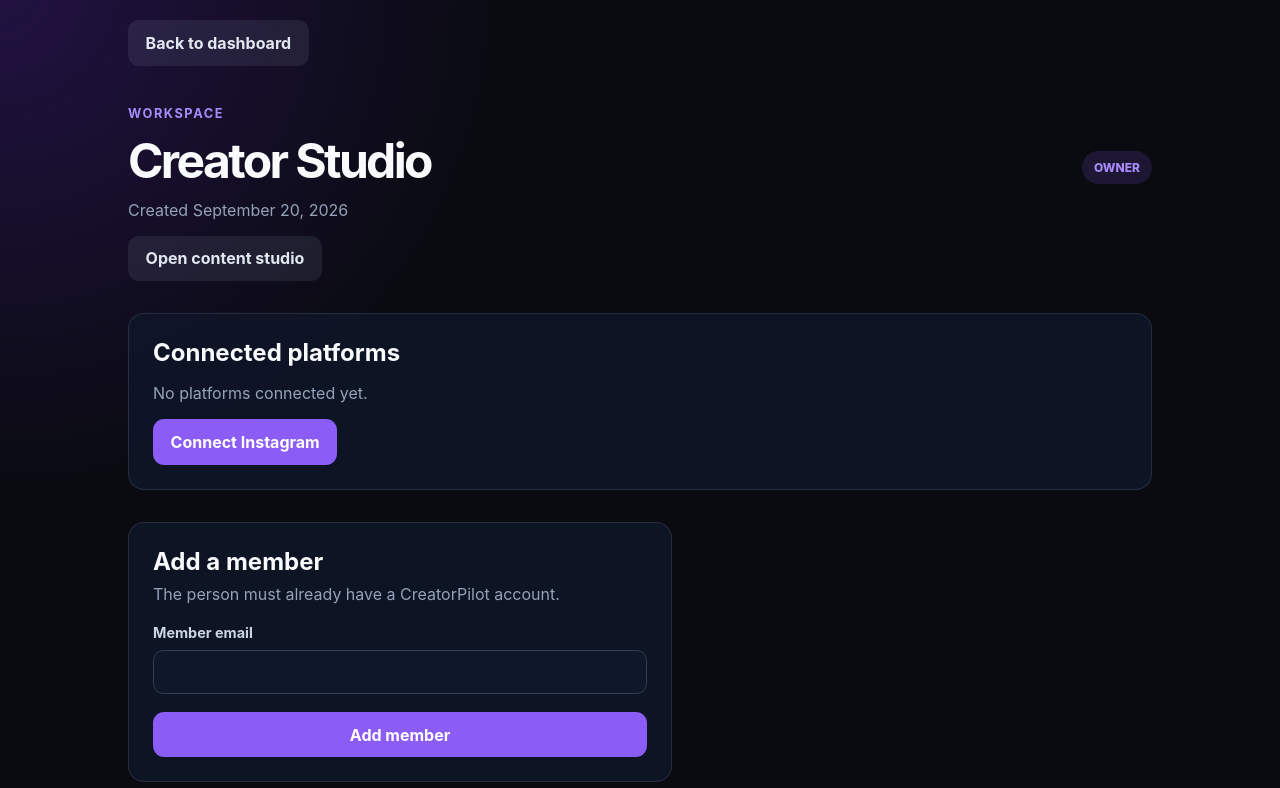
WorkspaceDetails › shows the API message when adding a member fails
Type "member@example.com" into the field labelled "Member email" at (400, 672), box [153,650,647,694]
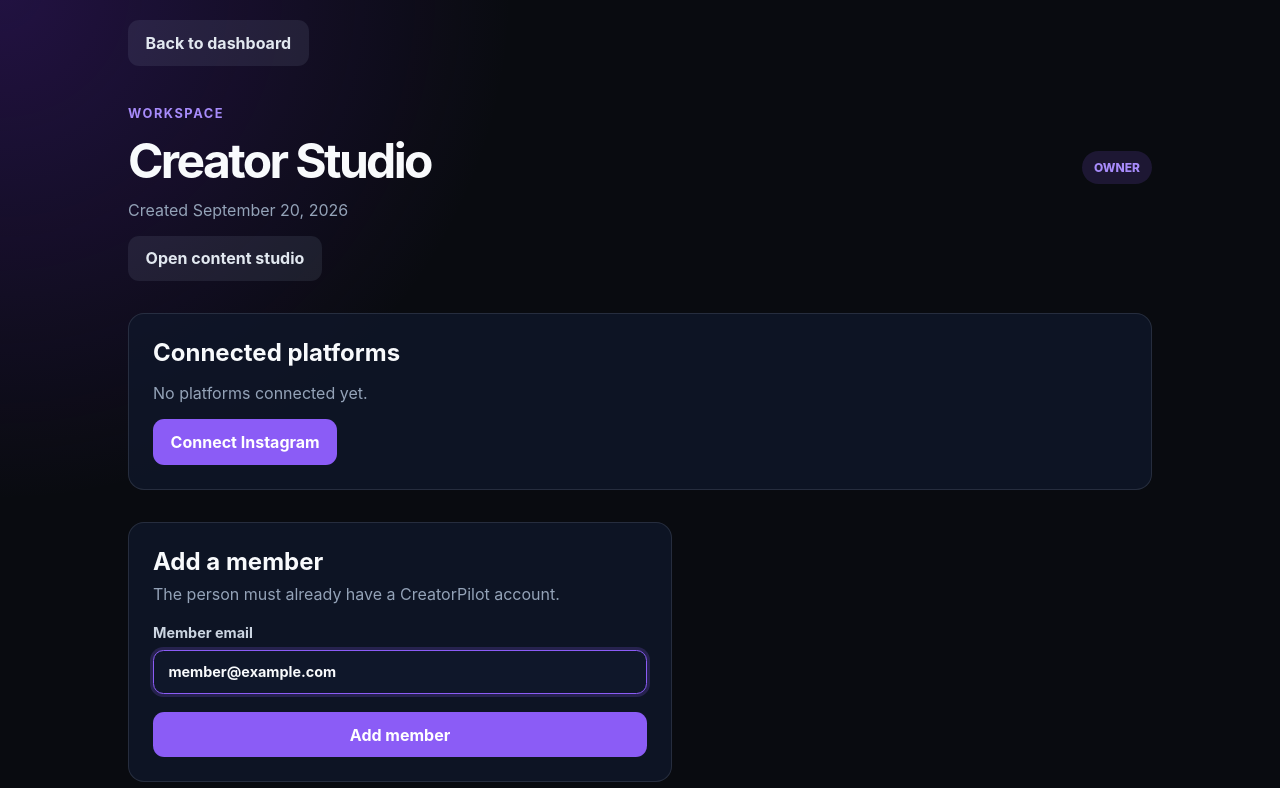
Click the button "Add member" at (400, 735), box [153,712,647,757]
(page scrolled)
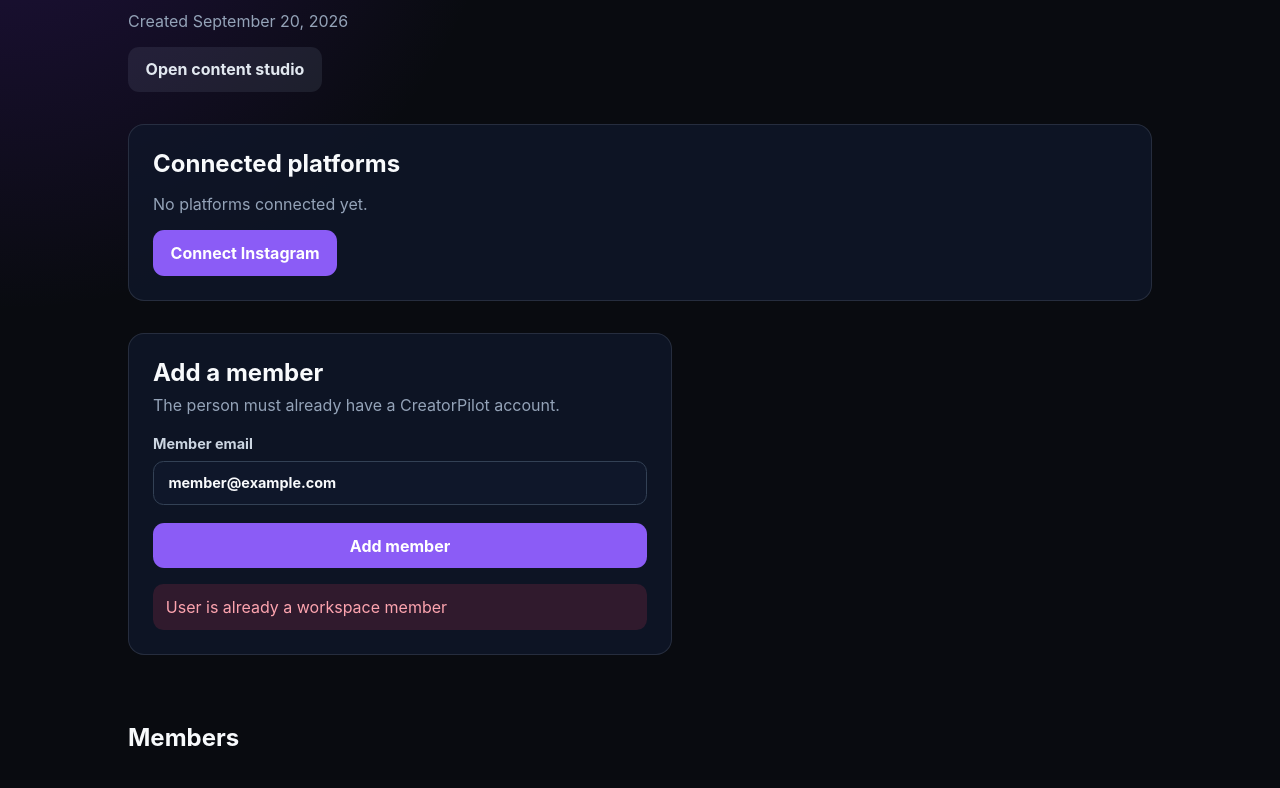
Now the message reads "User is already a workspace member", box [166,597,447,617]
